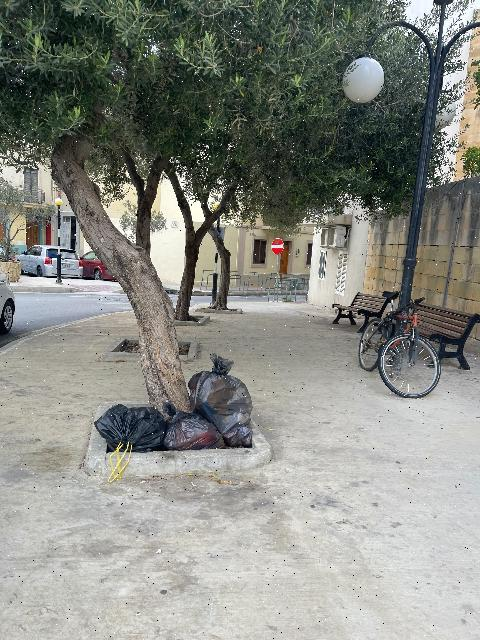Mixed -Black-: (94, 404, 167, 452)
Recyclable -Grey-: (188, 354, 253, 447), (163, 411, 221, 450)
